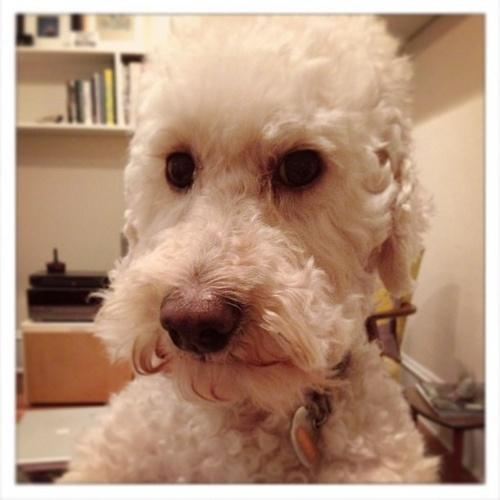dog: (61, 16, 437, 482)
